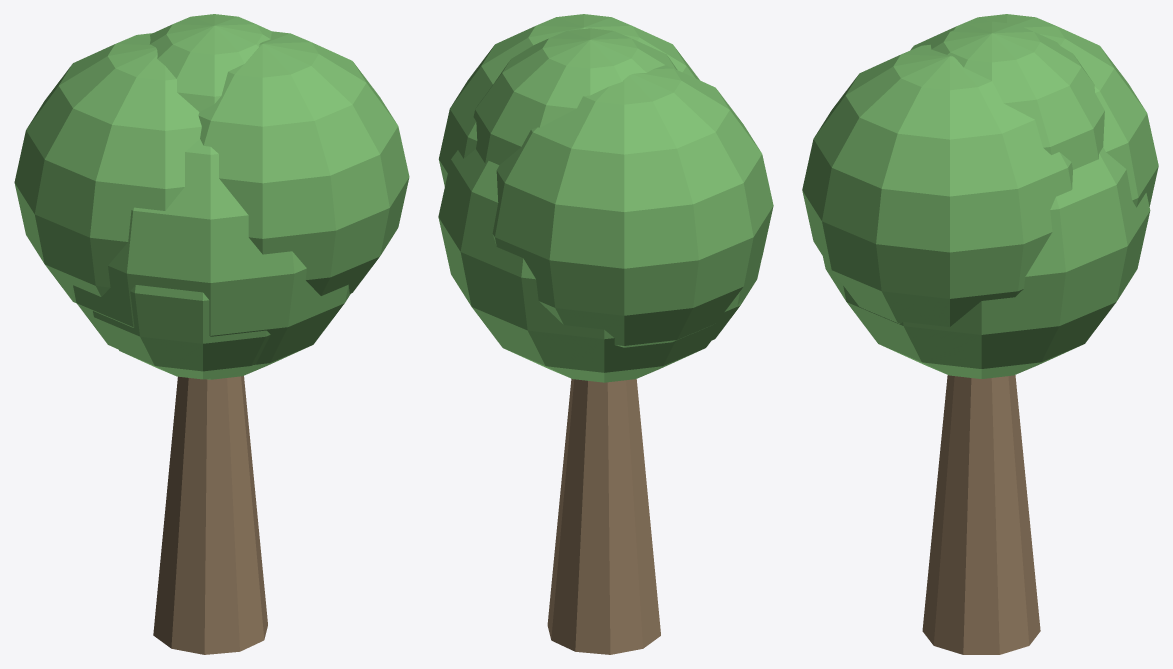
Rendered from tree_oak.dae.
3 views of the same model, side by side, from view 1: azimuth 30°, elevation 25°; view 2: azimuth 150°, elevation 25°; view 3: azimuth 270°, elevation 25° (orthographic).
Parts seen in each view (by area): view 1: Sphere.001, Sphere.002, Cone, Sphere, Sphere.004, Sphere.003; view 2: Sphere.002, Cone, Sphere, Sphere.003, Sphere.001; view 3: Sphere.001, Cone, Sphere, Sphere.003, Sphere.002.
Part boxes in pixels (x1=…): Sphere.001: x1=198, y1=31, x2=409, y2=295; Sphere.002: x1=14, y1=33, x2=201, y2=302; Cone: x1=153, y1=376, x2=267, y2=654; Sphere: x1=71, y1=139, x2=350, y2=379; Sphere.004: x1=92, y1=285, x2=270, y2=379; Sphere.003: x1=150, y1=14, x2=271, y2=111; Sphere.002: x1=492, y1=65, x2=773, y2=347; Cone: x1=547, y1=378, x2=660, y2=654; Sphere: x1=438, y1=149, x2=760, y2=382; Sphere.003: x1=473, y1=28, x2=677, y2=164; Sphere.001: x1=438, y1=14, x2=699, y2=186; Sphere.001: x1=802, y1=44, x2=1072, y2=326; Cone: x1=922, y1=375, x2=1040, y2=654; Sphere: x1=823, y1=147, x2=1150, y2=378; Sphere.003: x1=914, y1=21, x2=1104, y2=169; Sphere.002: x1=910, y1=14, x2=1158, y2=207.
Bounding box in the file's own units: 180 × 169 × 315.
